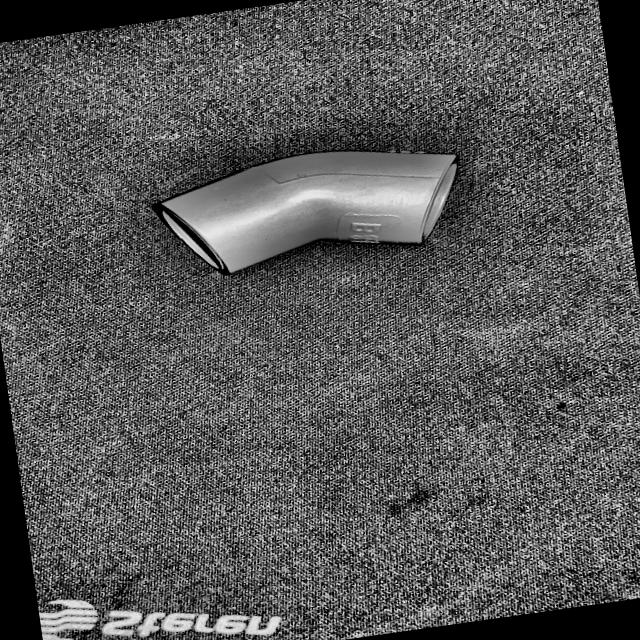ELBOW45: (153, 151, 457, 276)
